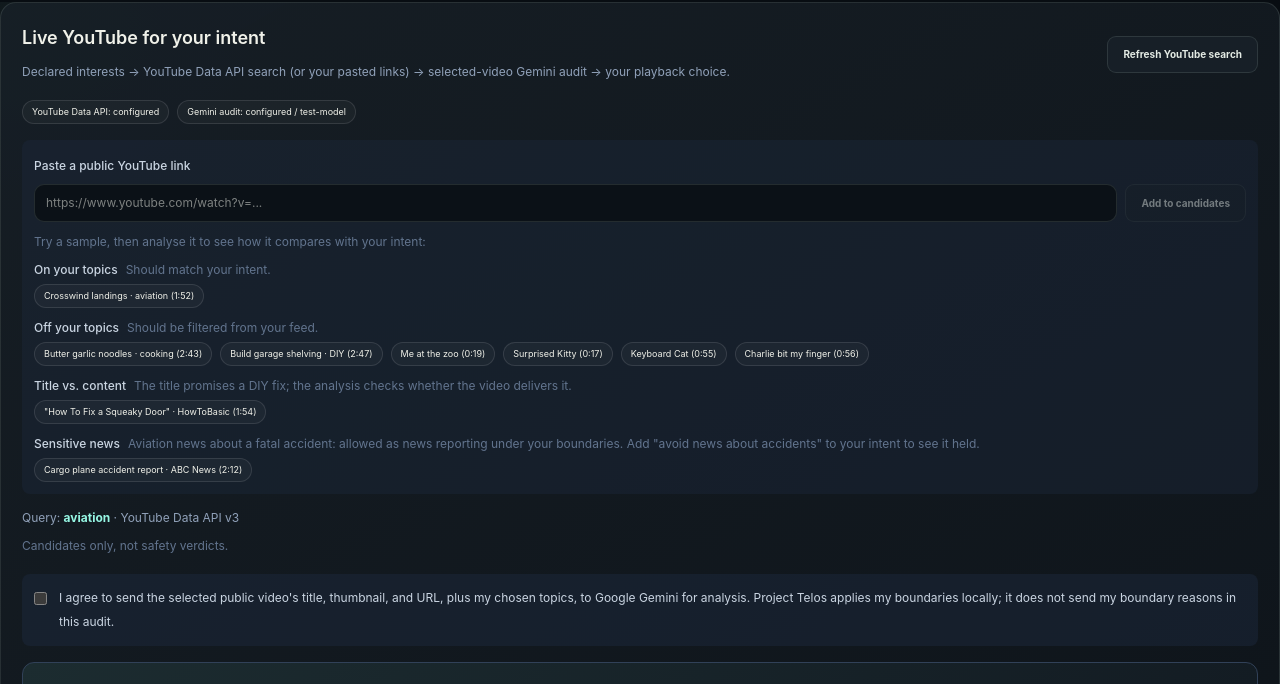
YouTube discovery › shows off-topic live results as filtered without exposing creator diagnosis
This screenshot has width=1280, height=684.
Click the checkbox labelled "I agree to send": (40, 598) [34,592,47,605]
(page scrolled)
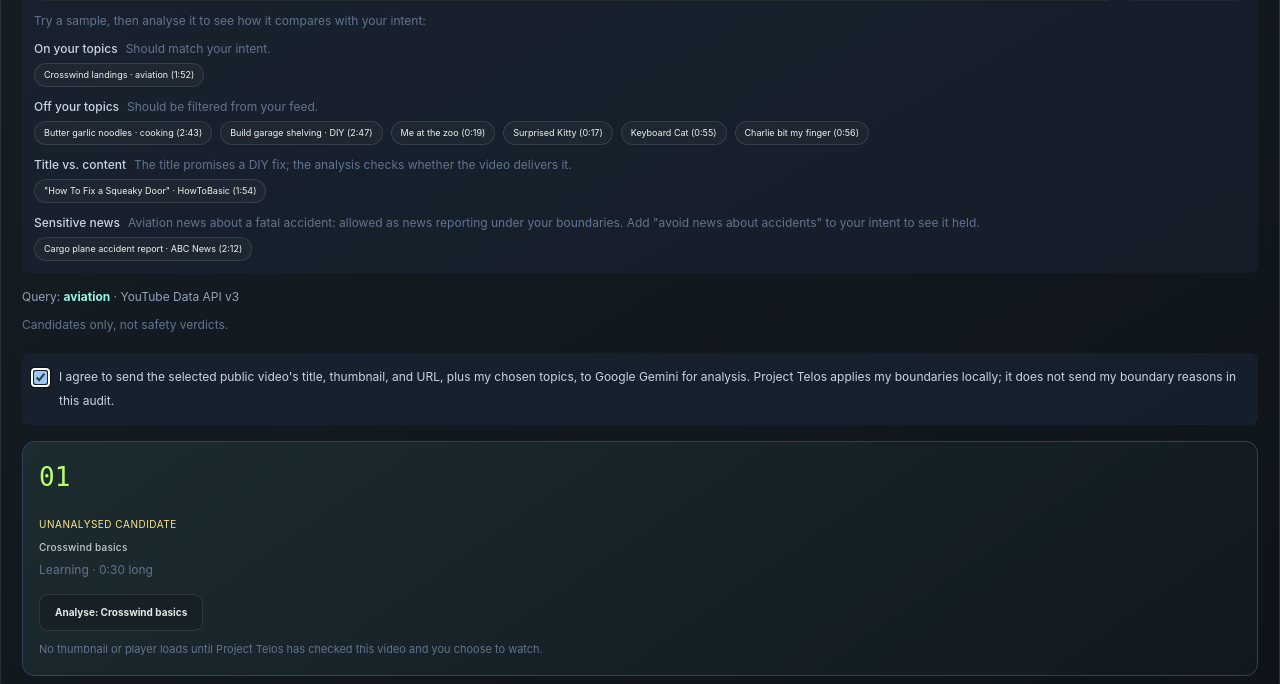
Click the button "Analyse: Crosswind basics": (121, 613) [39,594,203,631]
(page scrolled)
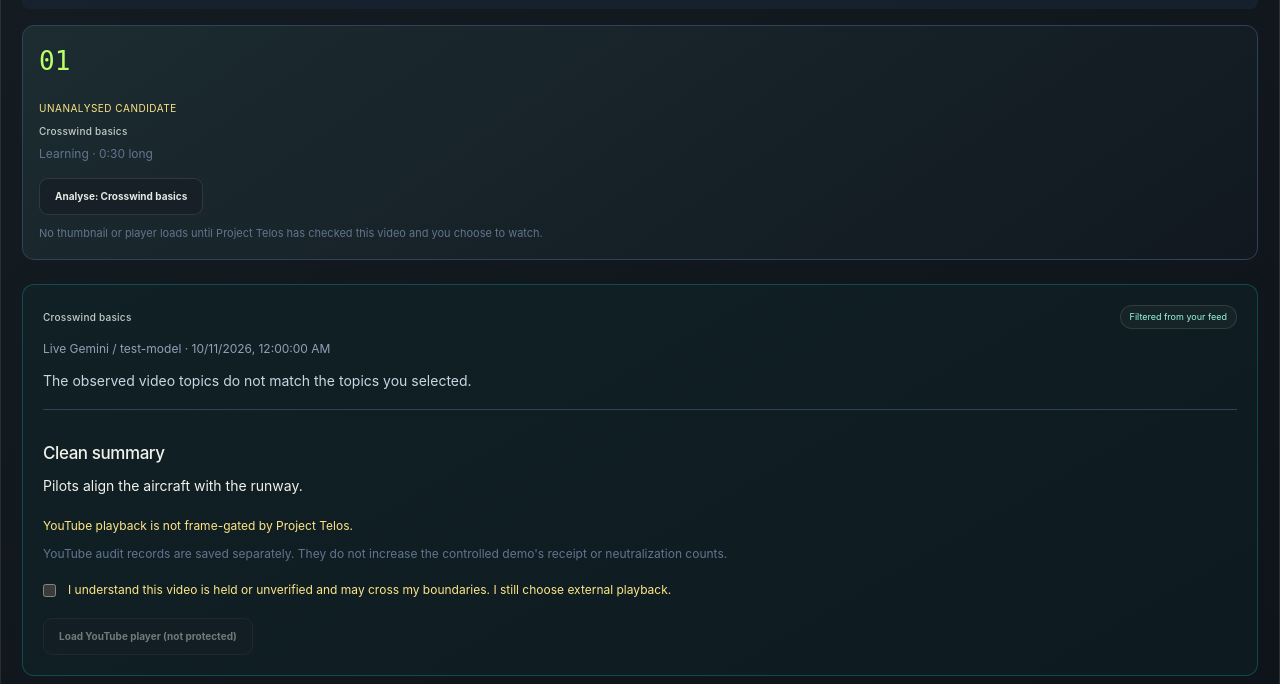
Check: the text "Filtered from your feed" is shown, box [1120,305,1237,329]
Check: the button "Load YouTube player (not protected)" is disabled, box [43,618,253,655]
